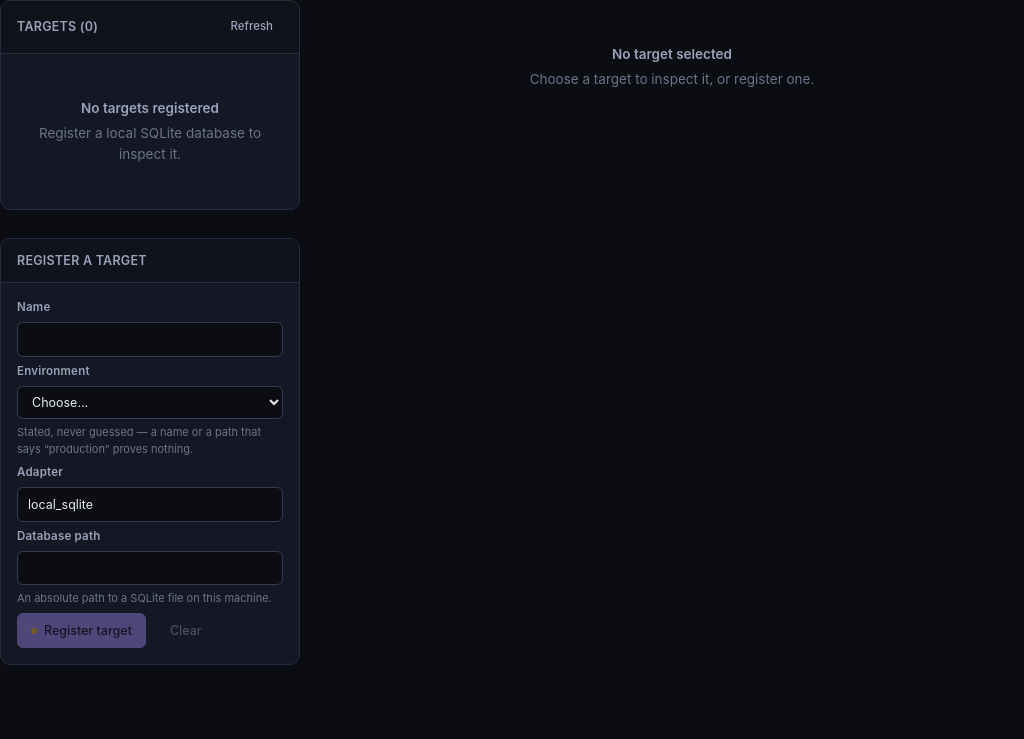
Test: a registration whose reply was lost › says it was registered when the re-read finds it, and clears the form
The image size is (1024, 739).
Expected: the text "No targets registered" is shown, [81, 100, 219, 116]
Type "Reports" into the field labelled "Name". click: (150, 340)
box: [17, 322, 283, 357]
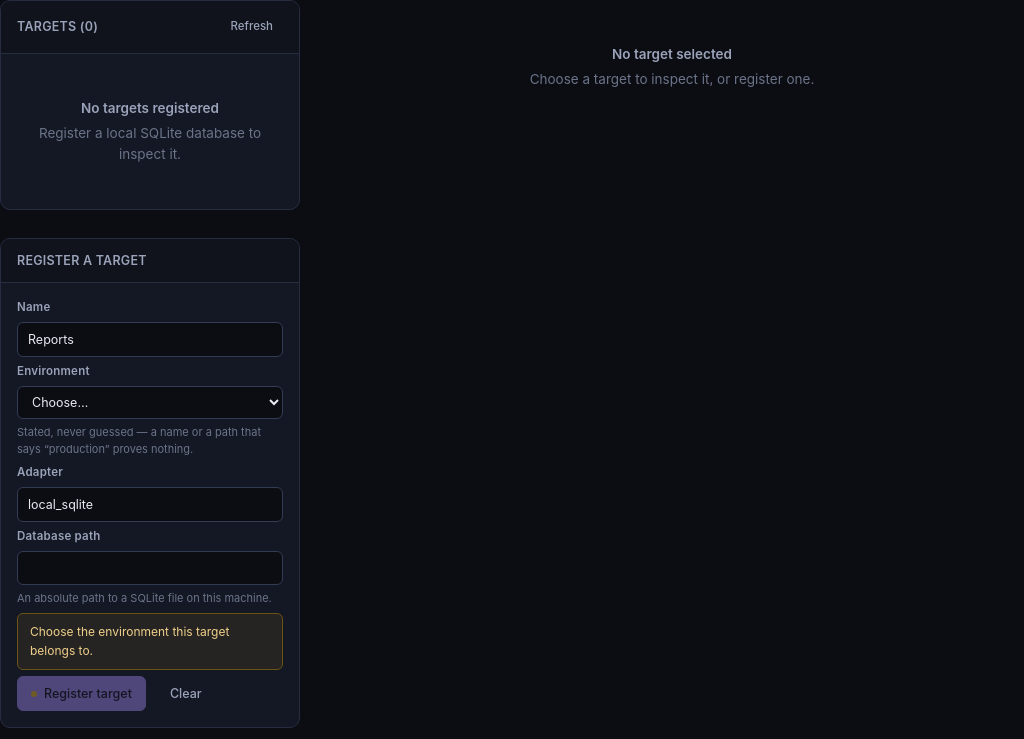
Select "local" in the dropdown labelled "Environment". click: (150, 402)
box: [17, 386, 283, 419]
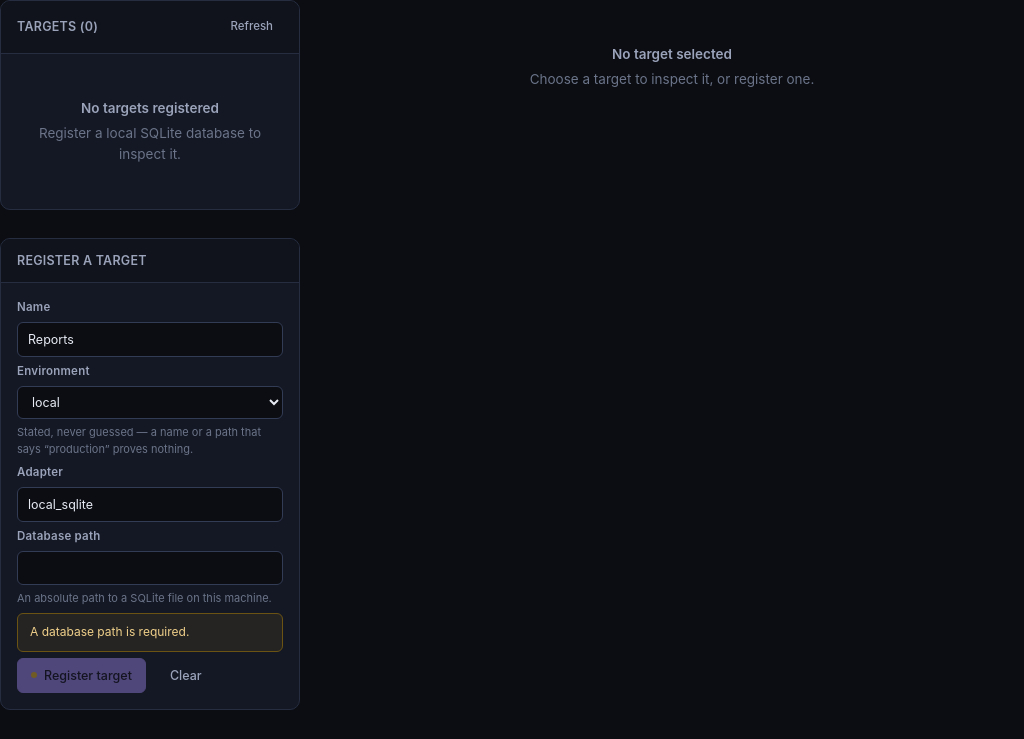
Type "C:\\data\\reports.sqlite" into the field labelled "Database path". click: (150, 568)
box: [17, 551, 283, 585]
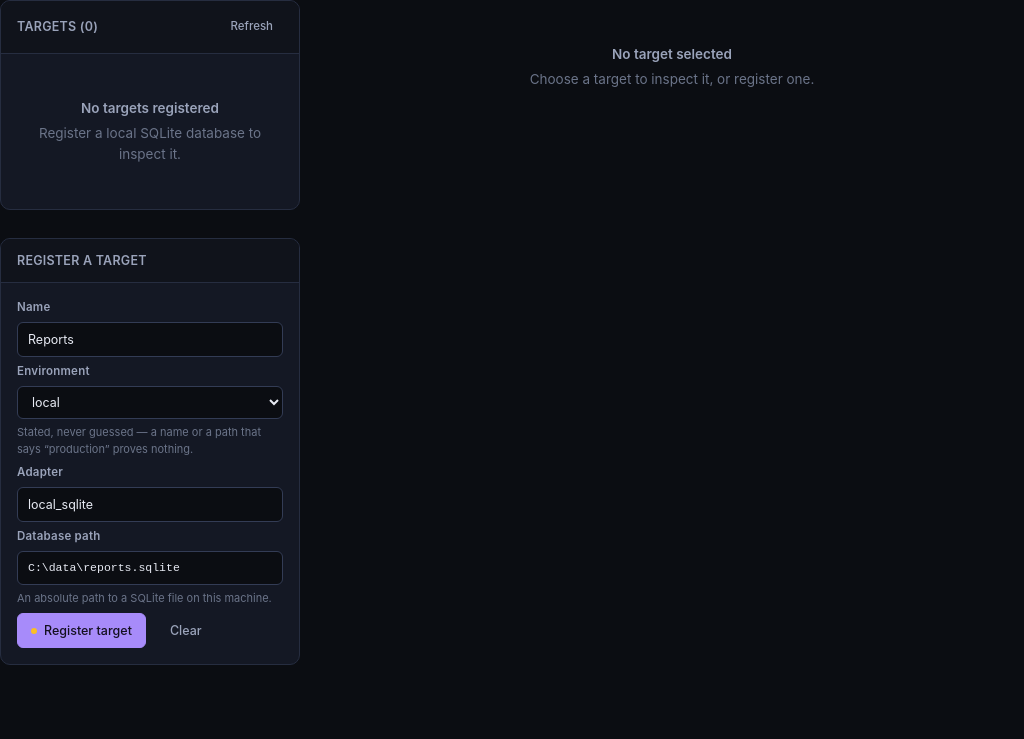
Click the button "Register target". click: (81, 631)
box: [17, 613, 146, 648]
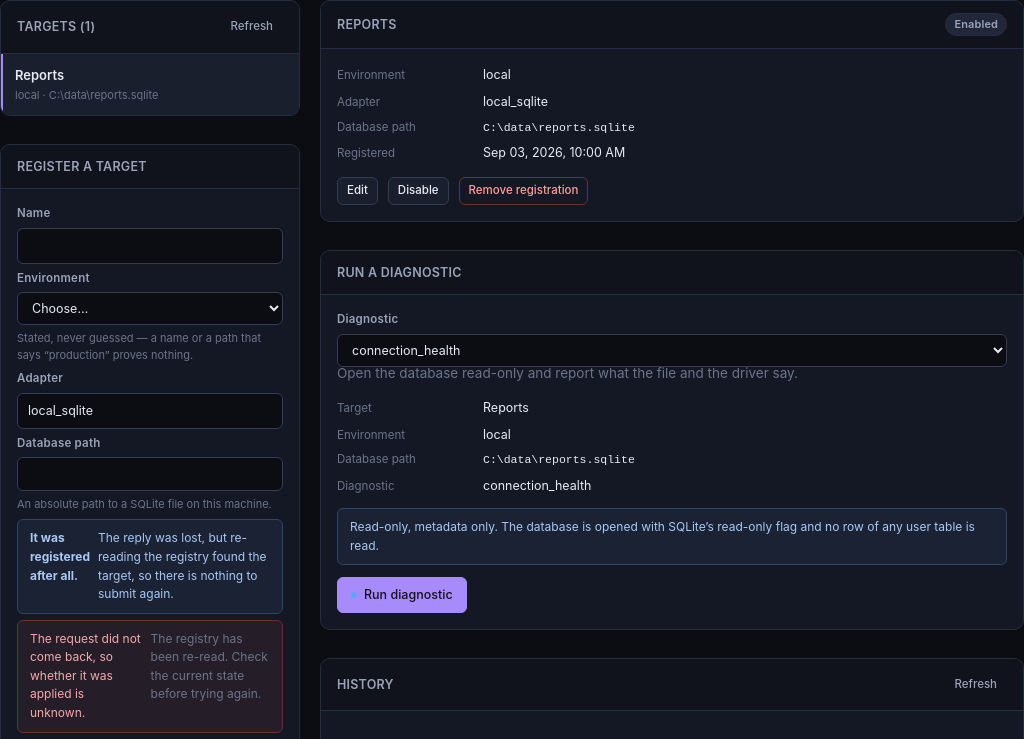
Expected: the text "It was registered after all." is shown, [30, 529, 90, 585]
Expected: the field labelled "Name" is empty, [17, 228, 283, 264]
